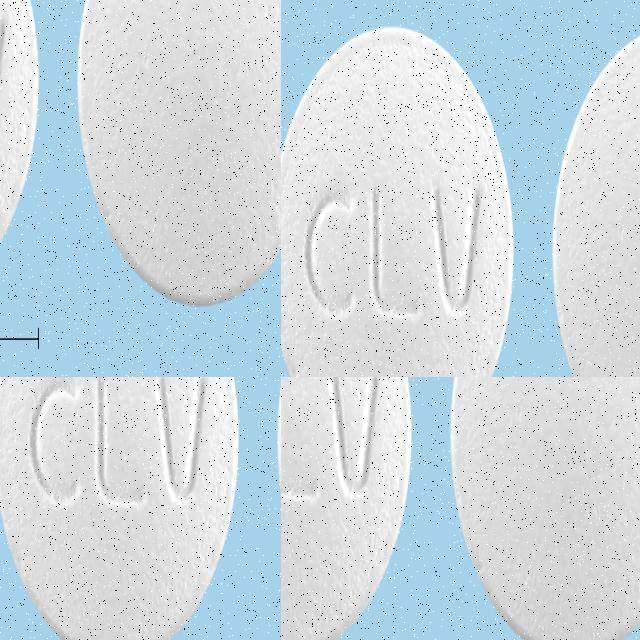Auscle: (281, 288, 620, 377)
Azabio: (87, 0, 281, 310)
Clarin: (22, 487, 281, 640)
Clevote: (448, 377, 640, 640), (281, 377, 412, 640)
